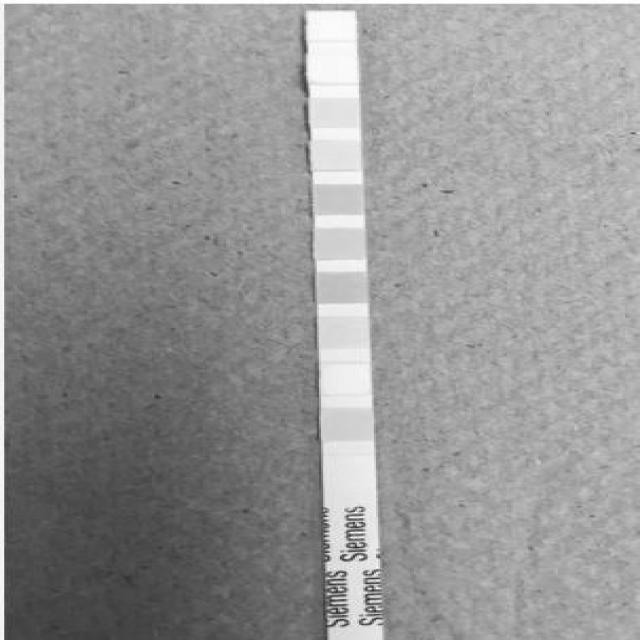Bilirubin: (319, 364, 370, 394)
Blood: (313, 228, 367, 258)
Glucose: (321, 408, 373, 442)
Ketone: (318, 317, 369, 348)
Leukocytes: (307, 13, 357, 40)
Nitrite: (308, 55, 358, 84)
Protein: (312, 140, 362, 170)
SpGravity: (315, 272, 366, 304)
Urobilinogen: (310, 98, 360, 126)
background: (0, 0, 640, 640)
pH: (311, 185, 365, 214)
strip: (305, 10, 384, 639)
